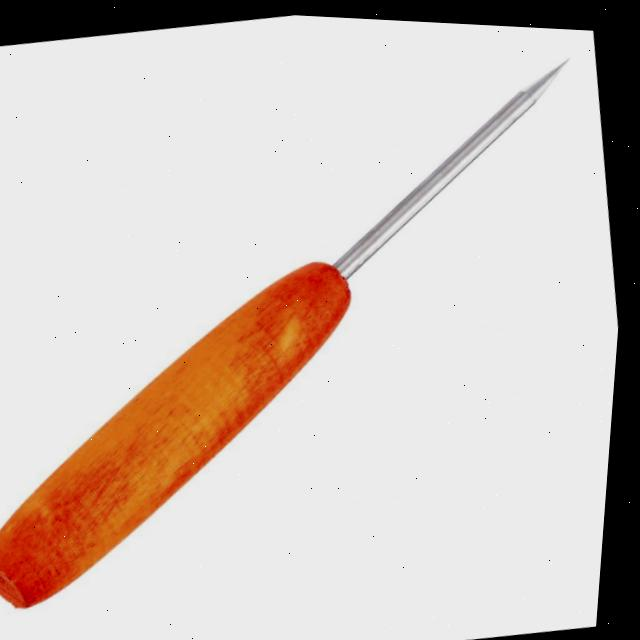ice pick: (0, 28, 638, 637)
